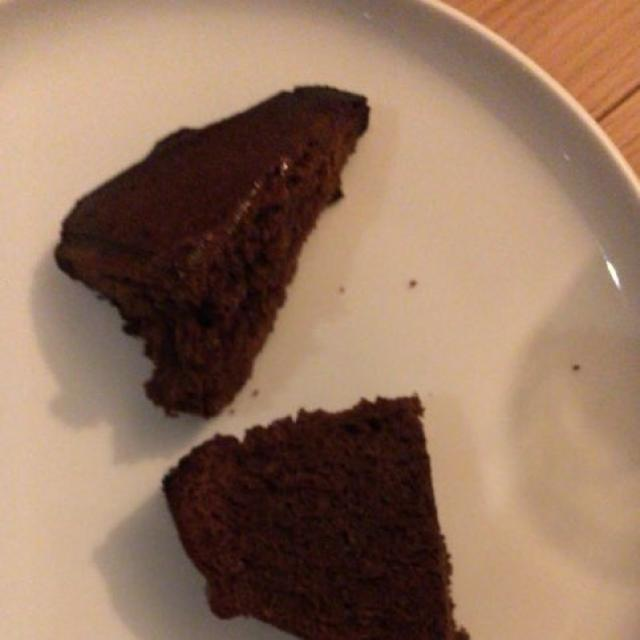cake: (78, 83, 469, 635)
